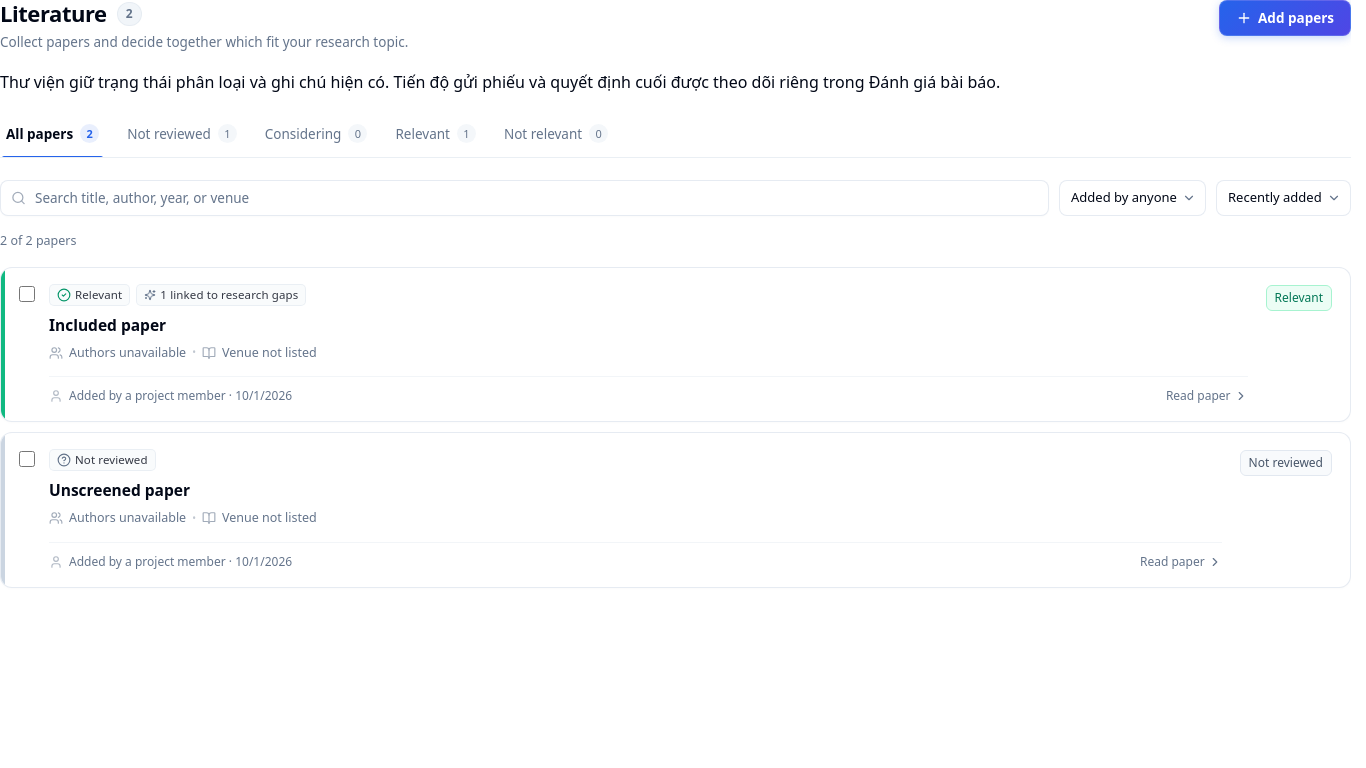
Scenario: navigates seamlessly between papers inside the reader dialog without closing it
The width and height of the screenshot is (1366, 768).
Click the button with aria-label "Read Included paper": [90, 295] box [49,284,1248,405]
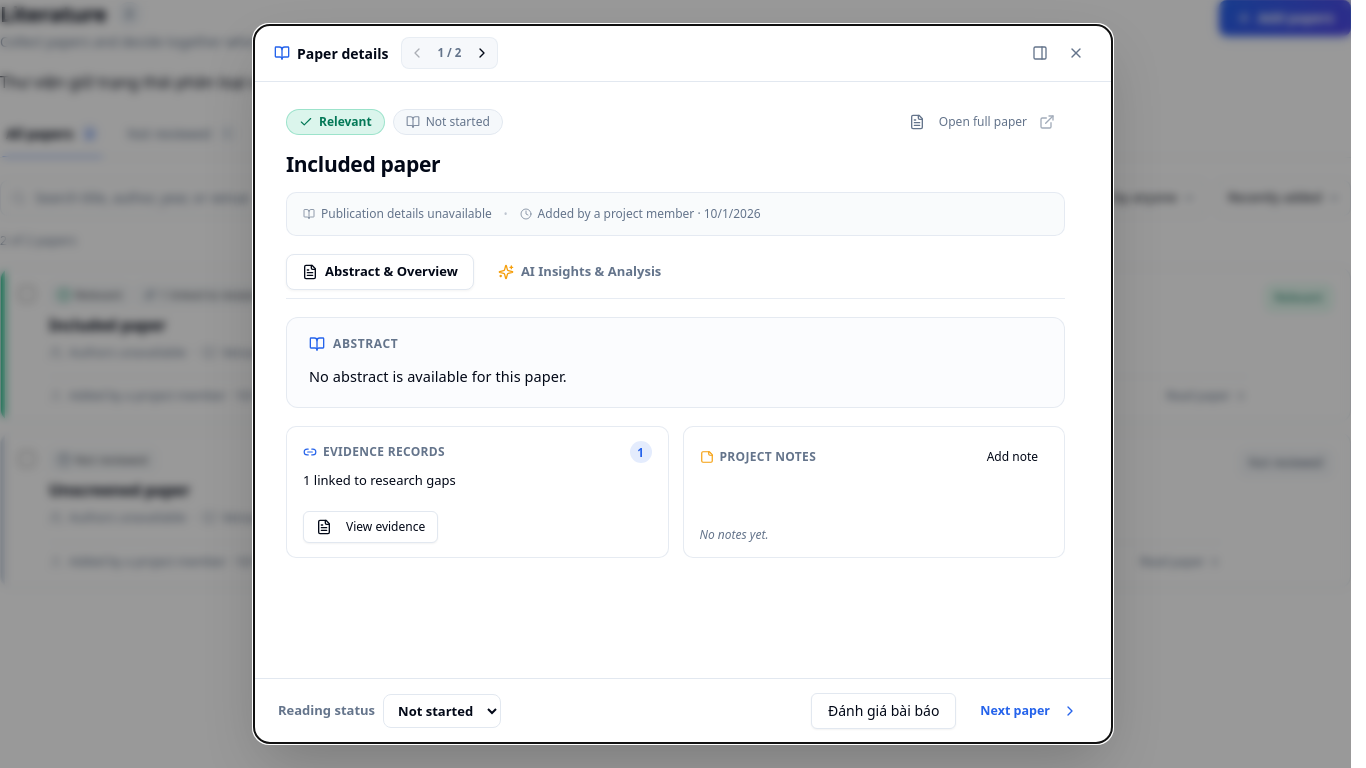
Result: the dialog shows "Included paper" at [286,150,440,178]
Result: the button named "Previous paper" is disabled at [404,40,430,66]
Result: the button named "Next paper" is enabled
Click the button named "Next paper": [482, 53] box [469,40,495,66]
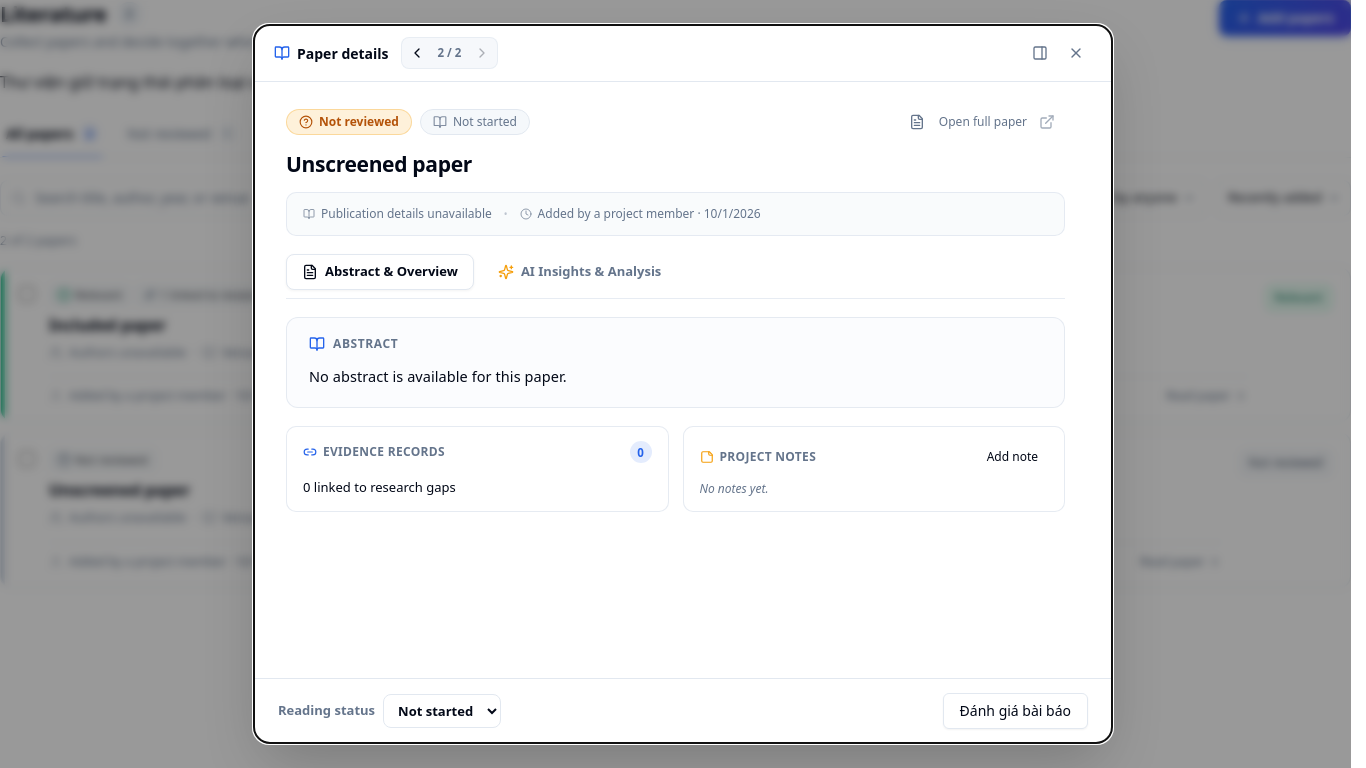
Result: the dialog shows "Unscreened paper" at [286,150,472,178]
Result: the button named "Previous paper" is enabled
Result: the button named "Next paper" is disabled at [469,40,495,66]
Click the button named "Previous paper": [416, 53] box [404,40,430,66]
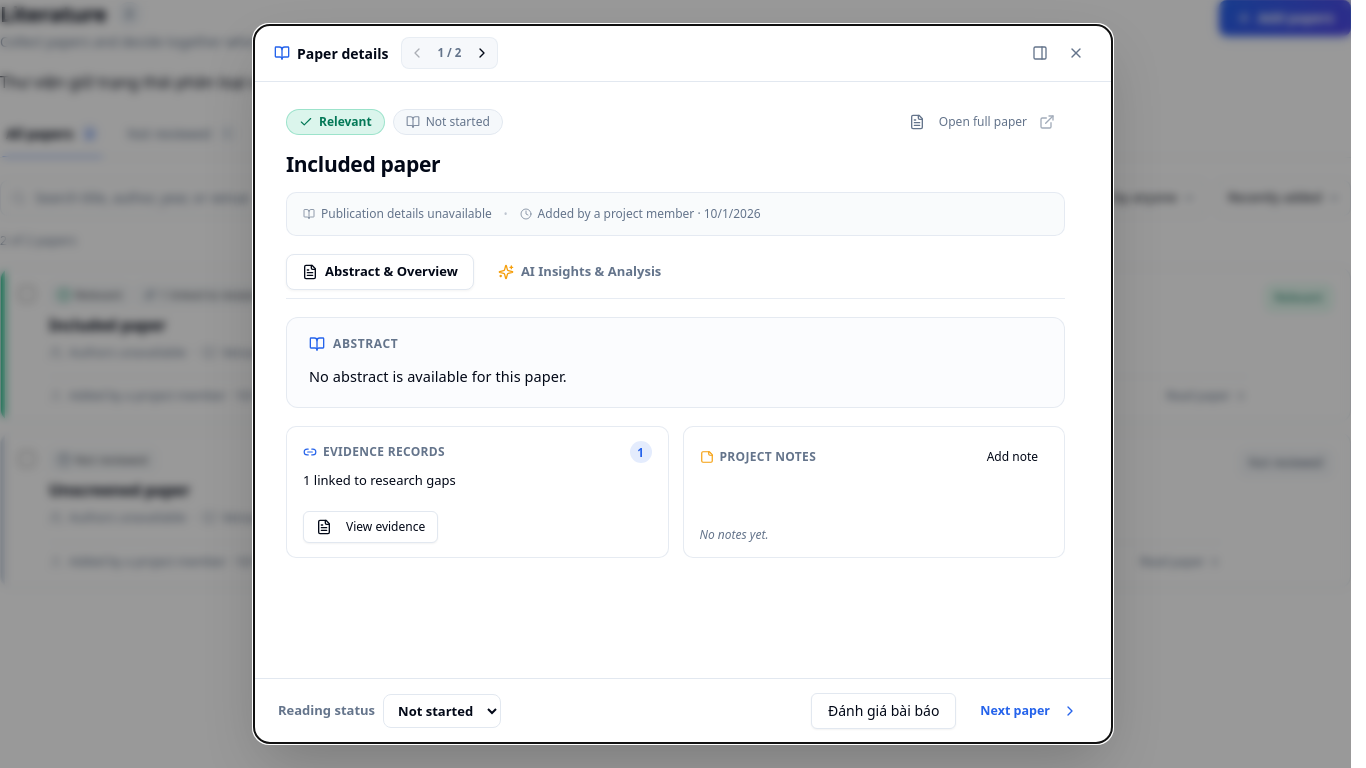
Result: the dialog shows "Included paper" at [286,150,440,178]
